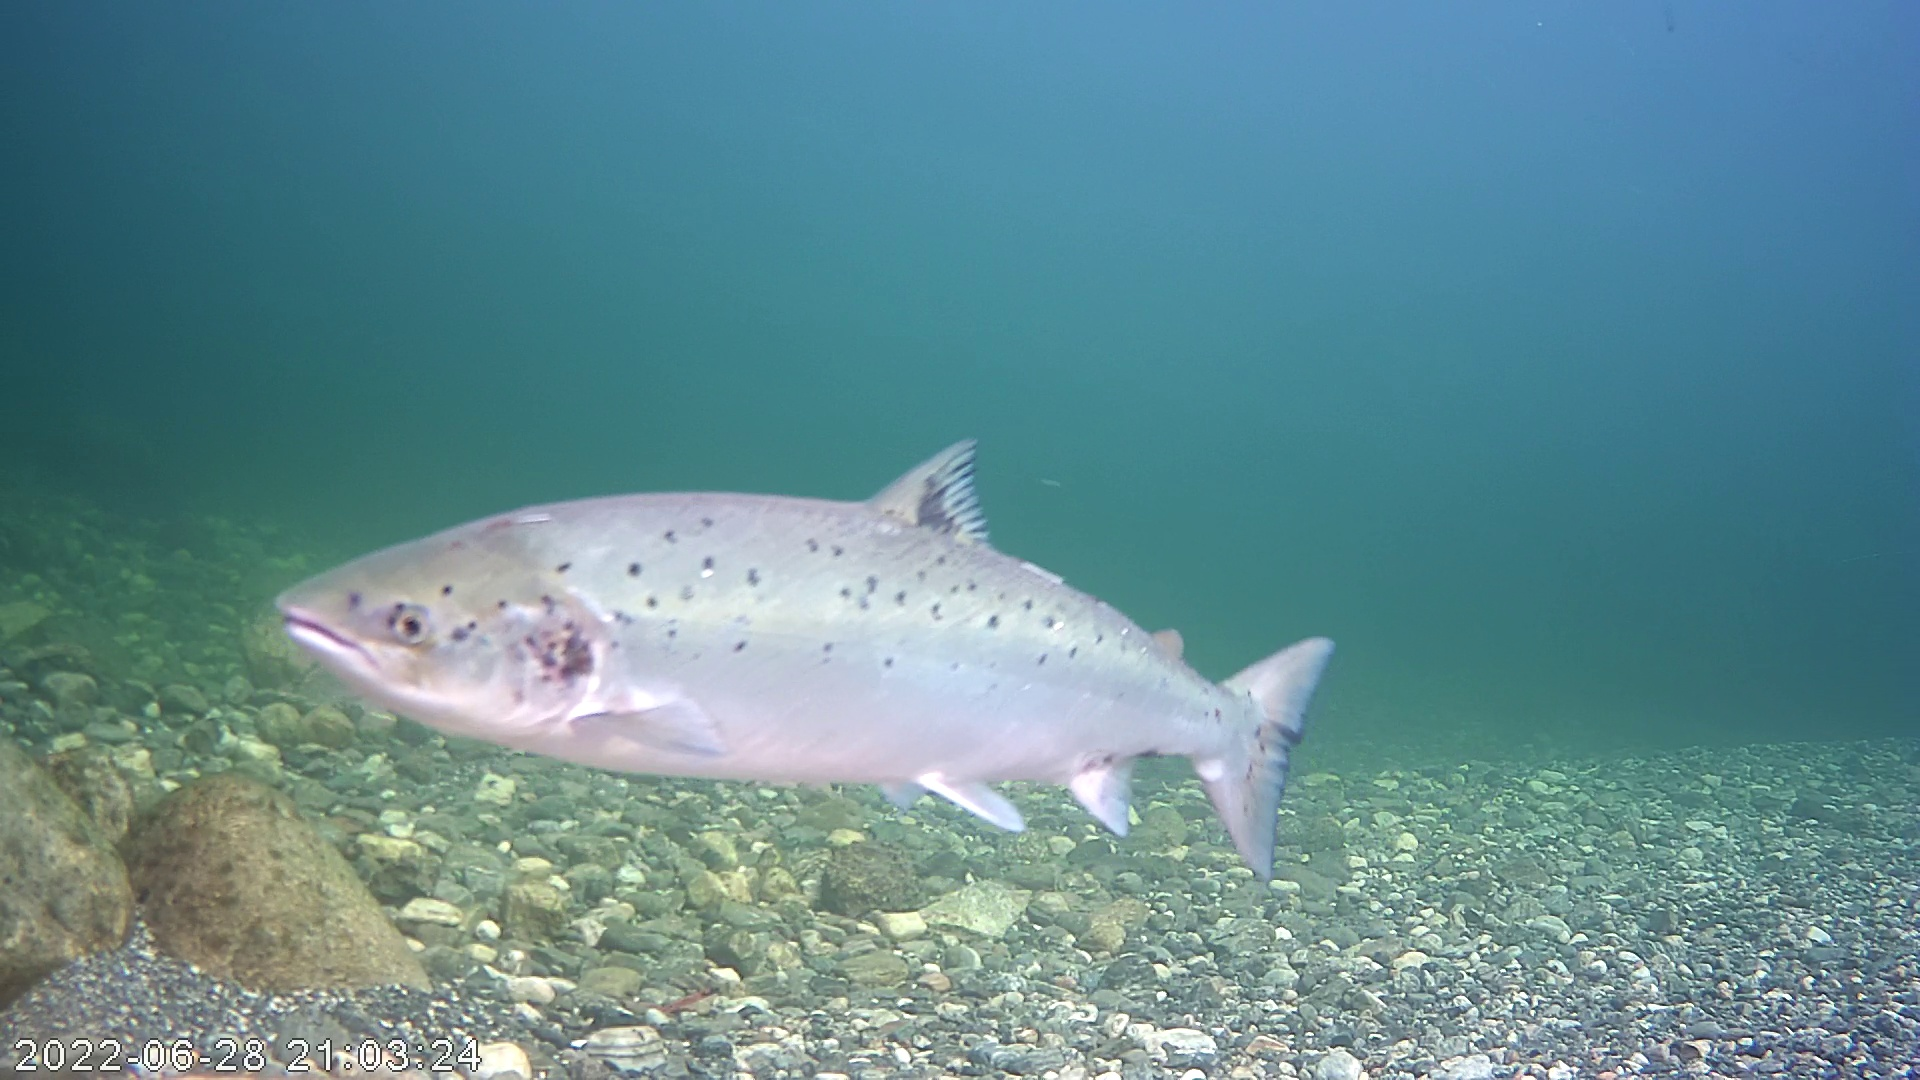salmon: (257, 365, 1342, 894)
